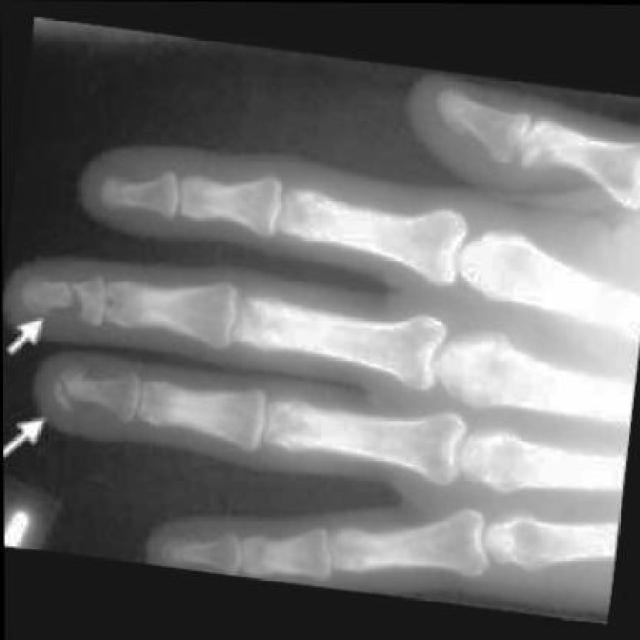Fracture: (22, 260, 110, 342), (42, 346, 109, 436)
